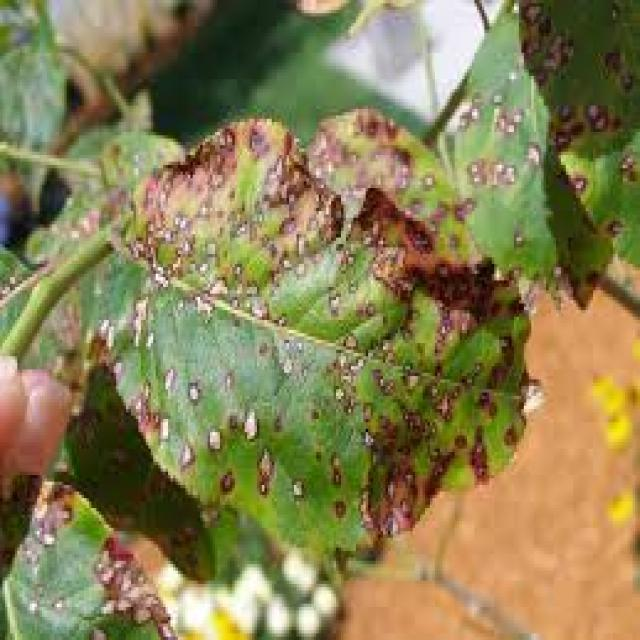leaf_spot: (96, 128, 534, 557), (458, 21, 638, 307), (10, 491, 176, 630)
